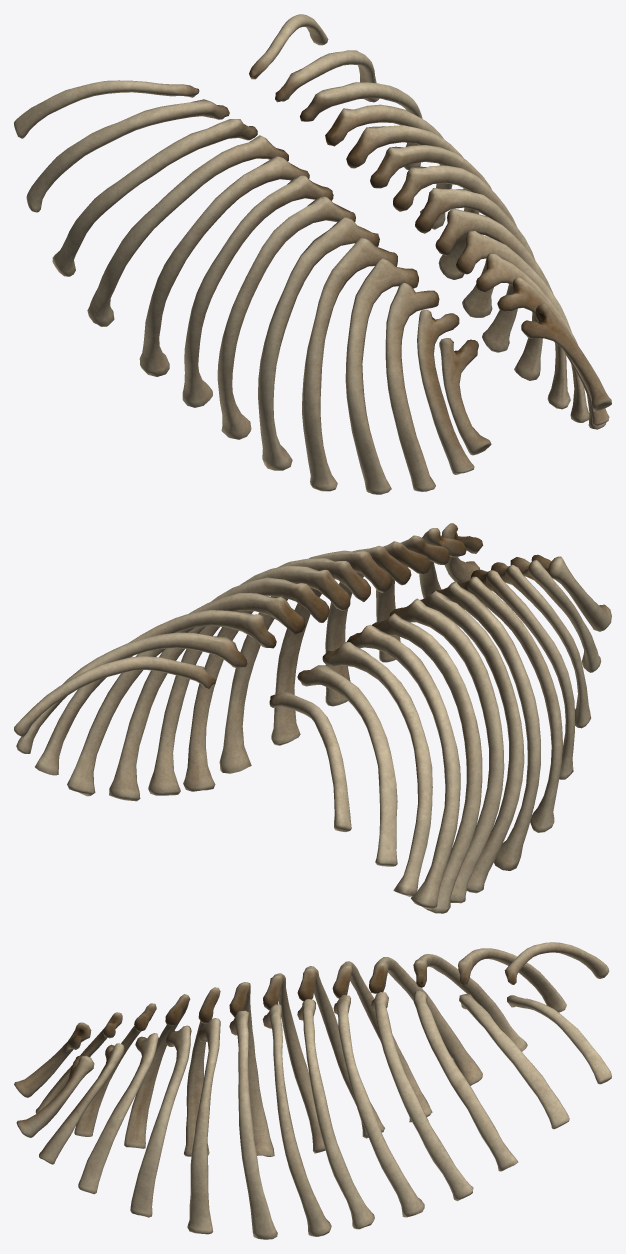
Rendered from Ribs.glb.
3 renders of one model, top to bottom at view 1: azimuth 30°, elevation 25°; view 2: azimuth 150°, elevation 25°; view 3: azimuth 270°, elevation 25°, orthographic. The views are drawn at different scales.
Visible parts, largest first — view 1: Ribs1:Group43081; view 2: Ribs1:Group43081; view 3: Ribs1:Group43081.
Part boxes in pixels (<box>): Ribs1:Group43081: <box>14,14,611,494</box>; Ribs1:Group43081: <box>14,523,611,913</box>; Ribs1:Group43081: <box>14,942,611,1239</box>.
Size of the model in its own units: 138 by 99.95 by 239.
Materials: 1 (1 with a texture image).
